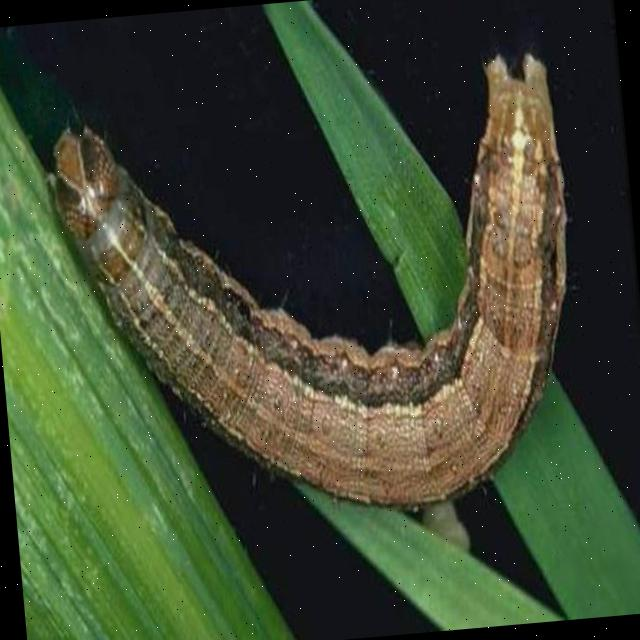worm: (38, 49, 595, 545)
